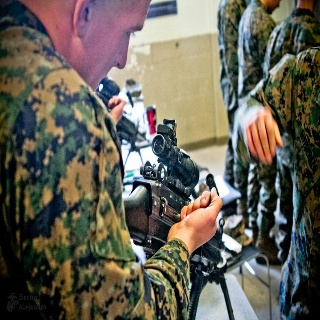rifle: (118, 118, 243, 320)
